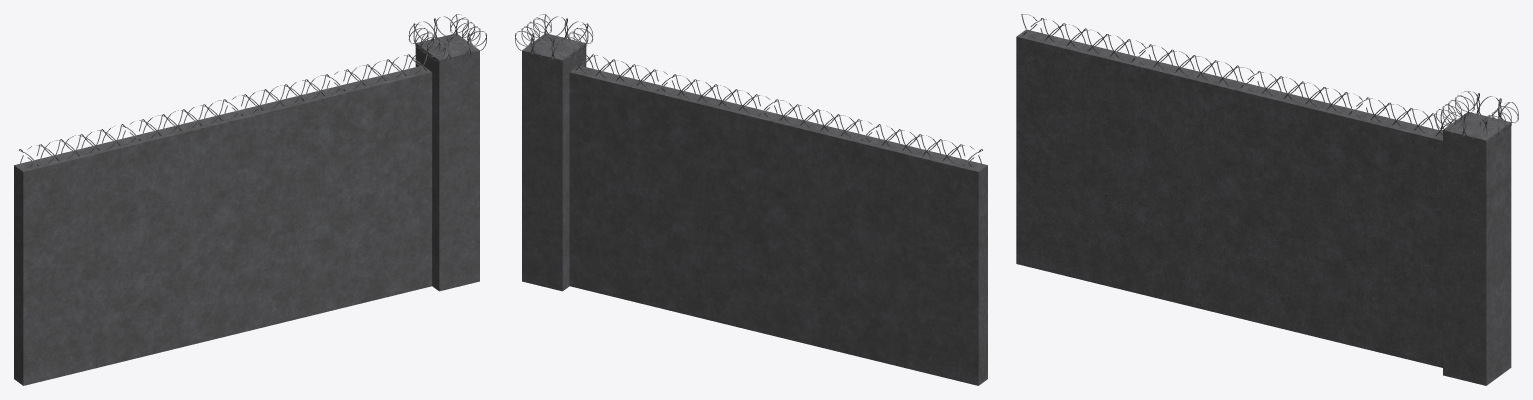
The model's file is Wall.fbx.
3 renders of one model, left to right at view 1: azimuth 30°, elevation 25°; view 2: azimuth 150°, elevation 25°; view 3: azimuth 330°, elevation 25°, orthographic. The views are drawn at different scales.
Visible parts, largest first — view 1: Wall, Barb Wire; view 2: Wall, Barb Wire; view 3: Wall, Barb Wire.
Boxes of the visible parts, x1,y1,x2,y2 form: Wall: (14, 33, 479, 385); Barb Wire: (19, 14, 486, 167); Wall: (522, 33, 987, 385); Barb Wire: (515, 14, 982, 167); Wall: (1016, 29, 1511, 385); Barb Wire: (1021, 14, 1518, 141).
Bounding box in the file's own units: 1122 × 584 × 144.
1 material, 1 textured.
